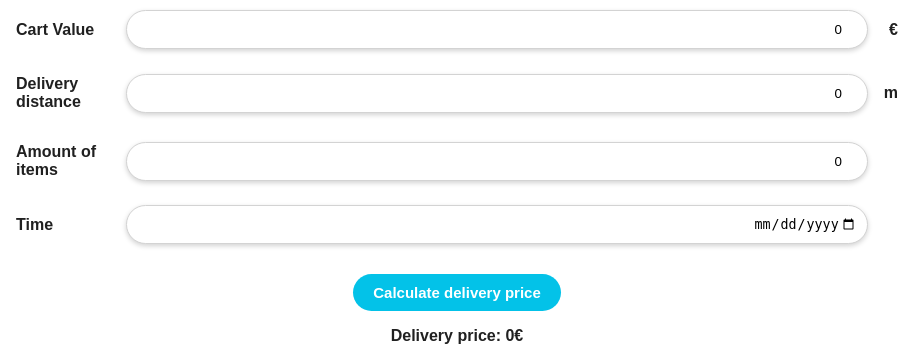
Test: Testing React Components › time.value should change when user is typing
Step 1. Click the date field with test id "time" → (497, 224), box [126, 205, 868, 244]
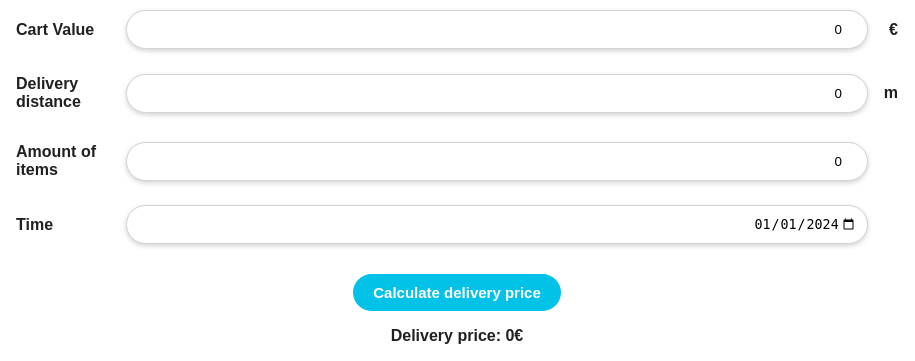
Expected: the date field with test id "time" holds "2024-01-01", [126, 205, 868, 244]
